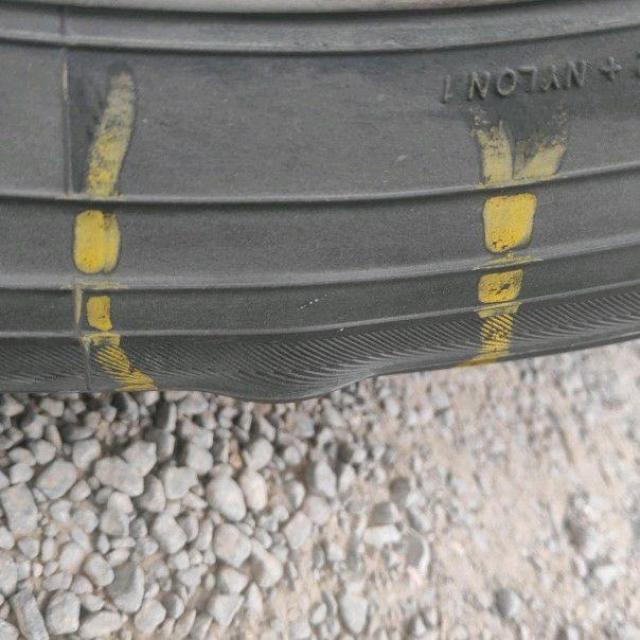Bulge: (172, 343, 387, 408)
